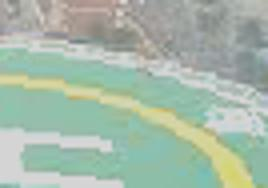Apron: (1, 70, 262, 187)
